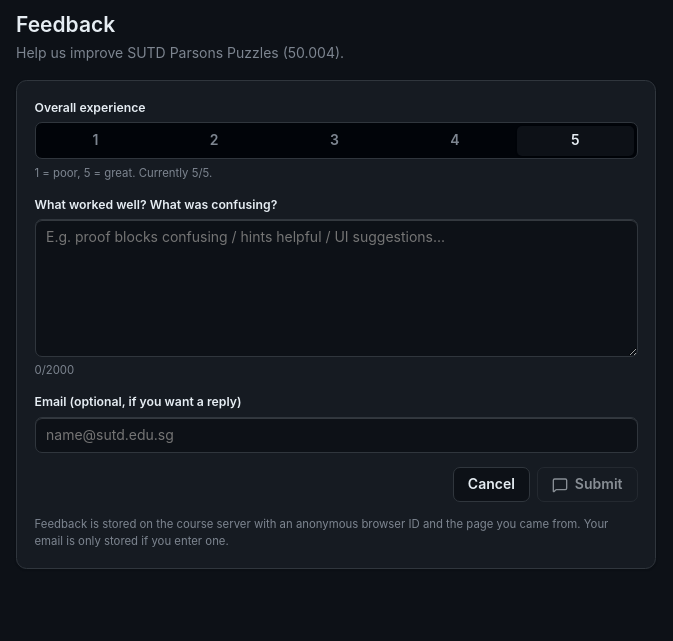
Scenario: FeedbackPage › keeps the form and shows the error when sending fails
Type "Confusing step 3" into the text box labelled "What worked well? What was confusing?" at (336, 288), box [34,219,638,357]
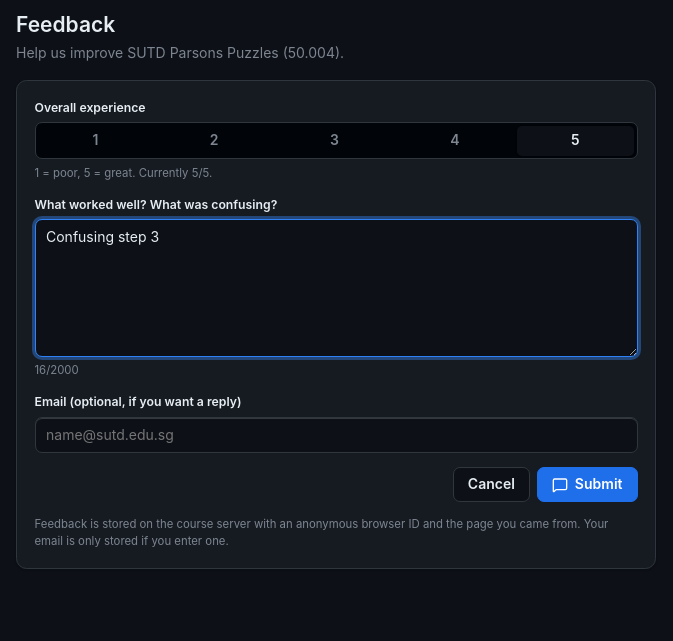
Click the button "Submit" at (587, 485), box [537,467,638,502]
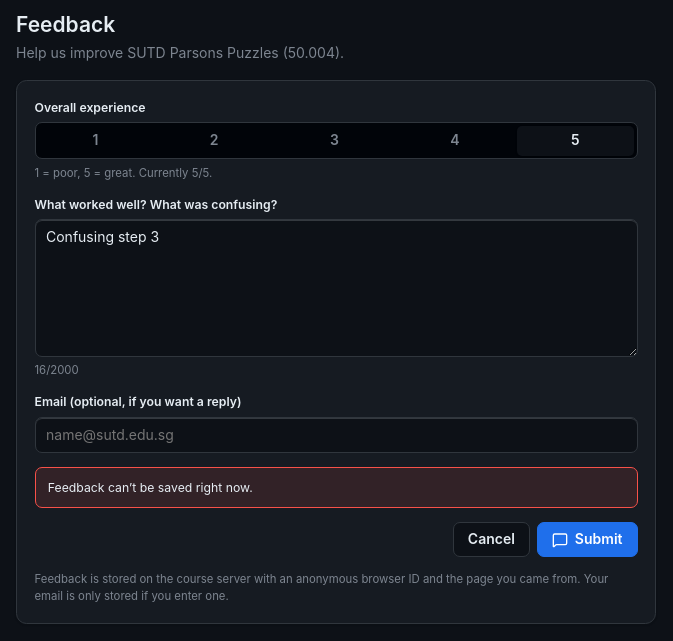
Check: the button "Submit" is enabled, box [537,522,638,557]
Check: the message reads "Feedback can’t be saved right now.", box [48,480,253,495]
